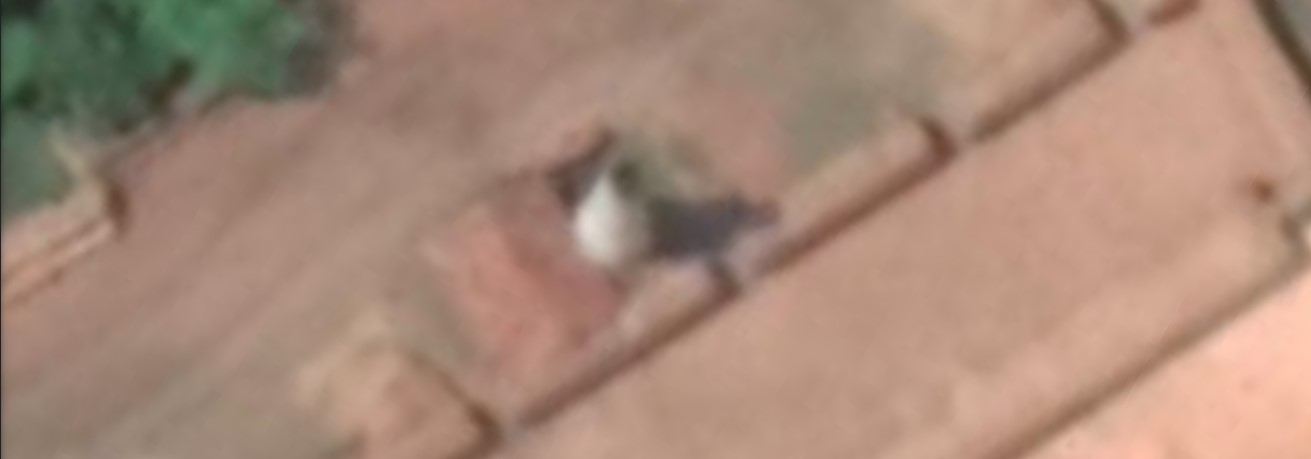kiln: (351, 100, 906, 359)
